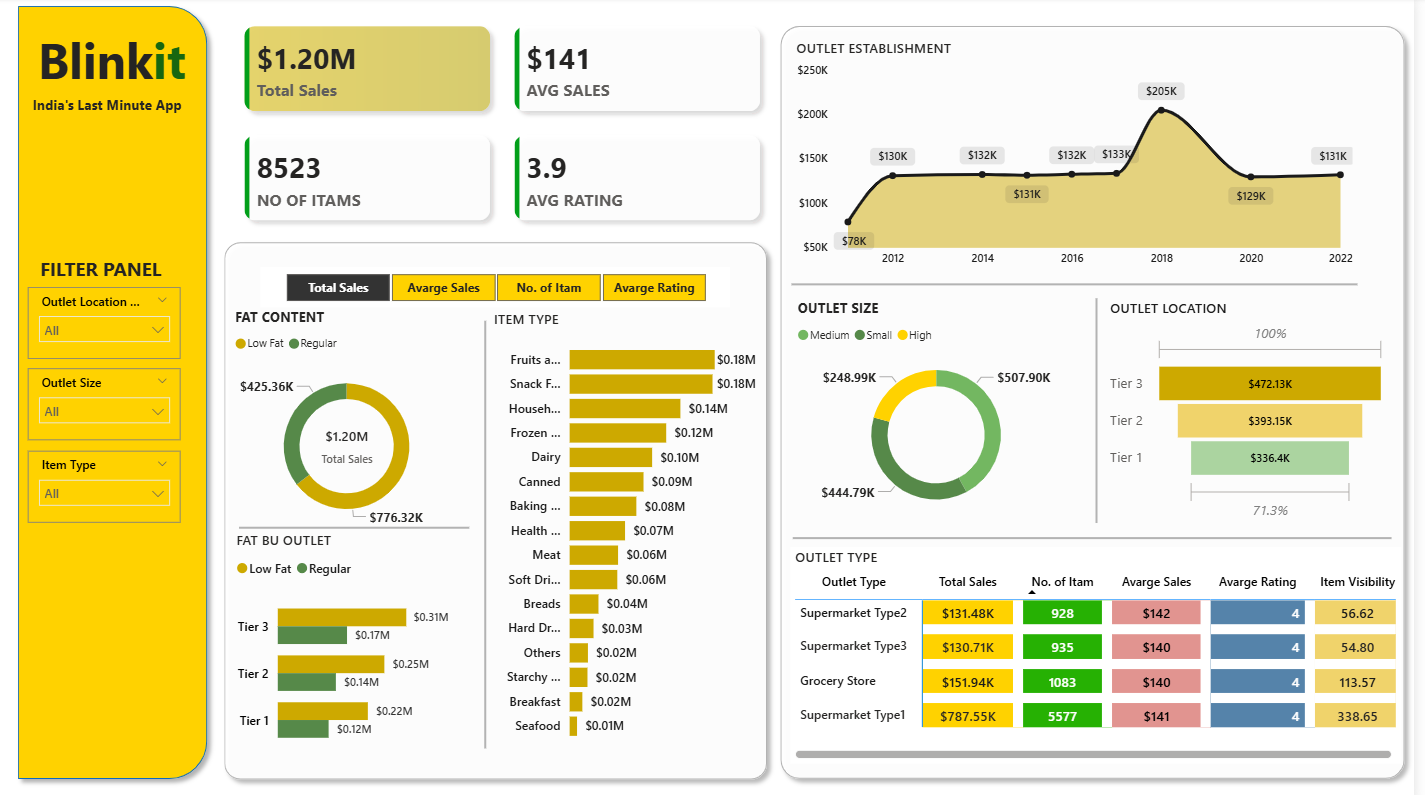

The dashboard page shown, as its layout file describes it:
{"tool":"powerbi","page":{"name":"Page 1","canvas":[1400,800],"ordinal":0},"visuals":[{"type":"shape","box":[9.4,0,205.1,782.8],"z":0},{"type":"textbox","box":[28.2,92.5,163.5,28.2],"z":1000},{"type":"textbox","box":[33.5,24.1,158.2,83.1],"z":2000},{"type":"cardVisual","fields":{"Data":["BlinkIT Grocery Data.Total Sales","BlinkIT Grocery Data.Avarge Sales","BlinkIT Grocery Data.No. of Itam","BlinkIT Grocery Data.Avarge Rating"]},"box":[214.5,0,568.4,250.7],"z":3000},{"type":"shape","box":[214.5,233.2,555,549.6],"z":4000},{"type":"donutChart","title":"FAT CONTENT","fields":{"Y":["BlinkIT Grocery Data.Total Sales"],"Category":["BlinkIT Grocery Data.Item Fat Content"]},"box":[229.2,307,230.6,230.6],"z":5000},{"type":"slicer","fields":{"Values":["Metrics.Metrics"]},"box":[258.7,266.8,465.1,40.2],"z":6000},{"type":"card","fields":{"Values":["BlinkIT Grocery Data.Total Sales"]},"box":[286.9,407.5,115.3,73.7],"z":7000},{"type":"clusteredBarChart","title":"FAT BU OUTLET","fields":{"Y":["BlinkIT Grocery Data.Total Sales"],"Category":["BlinkIT Grocery Data.Outlet Location Type"],"Series":["BlinkIT Grocery Data.Item Fat Content"]},"box":[230.6,528.2,219.8,230.6],"z":8000},{"type":"shape","box":[237.3,516.1,227.9,18.8],"z":9000},{"type":"shape","box":[465.1,320.4,32.2,423.6],"z":10000},{"type":"barChart","title":"ITEM TYPE","fields":{"Y":["BlinkIT Grocery Data.Total Sales"],"Category":["BlinkIT Grocery Data.Item Type"]},"box":[485.3,309.7,269.4,437],"z":11000},{"type":"shape","box":[764.1,20.1,635.4,762.7],"z":12000},{"type":"lineChart","title":"OUTLET ESTABLISHMENT","fields":{"Category":["BlinkIT Grocery Data.Outlet Establishment Year"],"Y":["BlinkIT Grocery Data.Total Sales"]},"box":[784.2,40.2,560.3,234.6],"z":13000},{"type":"shape","box":[784.2,262.7,560.3,44.2],"z":14000},{"type":"donutChart","title":"OUTLET SIZE","fields":{"Y":["BlinkIT Grocery Data.Total Sales"],"Category":["BlinkIT Grocery Data.Outlet Size"]},"box":[785.5,297.6,284.2,225.2],"z":15000},{"type":"funnel","title":"OUTLET LOCATION","fields":{"Y":["Sum(BlinkIT Grocery Data.Sales)"],"Category":["BlinkIT Grocery Data.Outlet Location Type"]},"box":[1095.2,297.6,282.8,225.2],"z":16000},{"type":"shape","box":[785.5,513.4,592.5,44.2],"z":17000},{"type":"shape","box":[1069.7,297.6,32.2,222.5],"z":18000},{"type":"pivotTable","title":"OUTLET TYPE","fields":{"Rows":["BlinkIT Grocery Data.Outlet Type"],"Values":["BlinkIT Grocery Data.Total Sales","BlinkIT Grocery Data.No. of Itam","BlinkIT Grocery Data.Avarge Sales","BlinkIT Grocery Data.Avarge Rating","Sum(BlinkIT Grocery Data.Item Visibility)"]},"box":[782.8,544.2,604.6,214.5],"z":19000},{"type":"slicer","fields":{"Values":["BlinkIT Grocery Data.Outlet Location Type"]},"box":[28.2,286.9,151.5,71],"z":20000},{"type":"slicer","fields":{"Values":["BlinkIT Grocery Data.Outlet Size"]},"box":[28.2,367.3,151.5,71],"z":21000},{"type":"slicer","fields":{"Values":["BlinkIT Grocery Data.Item Type"]},"box":[28.2,449.1,151.5,71],"z":22000},{"type":"textbox","box":[36.2,250.7,136.7,53.6],"z":22001}]}

Visuals, with their boxes in screenshot pixels (x1, y1, x2, y2), scaled from the page's 1400x800 canvas onto the 1425x795 screenshot:
shape: {"left": 10, "top": 0, "right": 218, "bottom": 778}
textbox: {"left": 29, "top": 92, "right": 195, "bottom": 120}
textbox: {"left": 34, "top": 24, "right": 195, "bottom": 107}
cardVisual - BlinkIT Grocery Data.Total Sales x BlinkIT Grocery Data.Avarge Sales: {"left": 218, "top": 0, "right": 797, "bottom": 249}
shape: {"left": 218, "top": 232, "right": 783, "bottom": 778}
"FAT CONTENT" donutChart: {"left": 233, "top": 305, "right": 468, "bottom": 534}
slicer - Metrics.Metrics: {"left": 263, "top": 265, "right": 737, "bottom": 305}
card - BlinkIT Grocery Data.Total Sales: {"left": 292, "top": 405, "right": 409, "bottom": 478}
"FAT BU OUTLET" clusteredBarChart: {"left": 235, "top": 525, "right": 458, "bottom": 754}
shape: {"left": 242, "top": 513, "right": 474, "bottom": 532}
shape: {"left": 473, "top": 318, "right": 506, "bottom": 739}
"ITEM TYPE" barChart: {"left": 494, "top": 308, "right": 768, "bottom": 742}
shape: {"left": 778, "top": 20, "right": 1424, "bottom": 778}
"OUTLET ESTABLISHMENT" lineChart: {"left": 798, "top": 40, "right": 1369, "bottom": 273}
shape: {"left": 798, "top": 261, "right": 1369, "bottom": 305}
"OUTLET SIZE" donutChart: {"left": 800, "top": 296, "right": 1089, "bottom": 520}
"OUTLET LOCATION" funnel: {"left": 1115, "top": 296, "right": 1403, "bottom": 520}
shape: {"left": 800, "top": 510, "right": 1403, "bottom": 554}
shape: {"left": 1089, "top": 296, "right": 1122, "bottom": 517}
"OUTLET TYPE" pivotTable: {"left": 797, "top": 541, "right": 1412, "bottom": 754}
slicer - BlinkIT Grocery Data.Outlet Location Type: {"left": 29, "top": 285, "right": 183, "bottom": 356}
slicer - BlinkIT Grocery Data.Outlet Size: {"left": 29, "top": 365, "right": 183, "bottom": 436}
slicer - BlinkIT Grocery Data.Item Type: {"left": 29, "top": 446, "right": 183, "bottom": 517}
textbox: {"left": 37, "top": 249, "right": 176, "bottom": 302}
